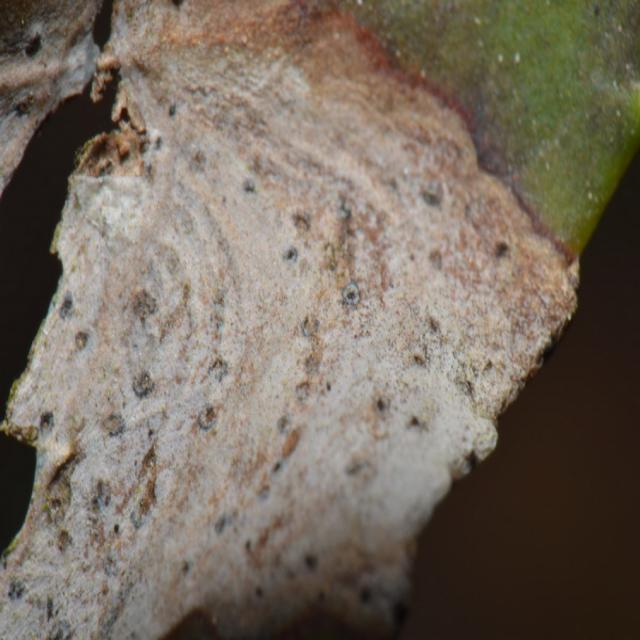Tea cloud leaf blight: (20, 19, 578, 591)
